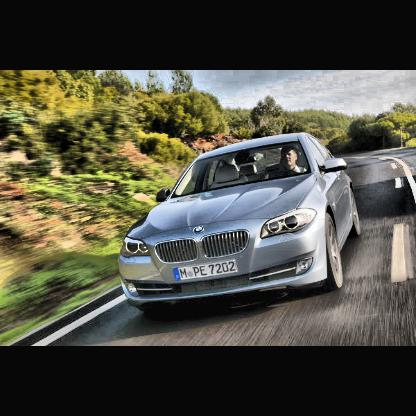BMW ActiveHybrid 5 Sedan 2012: (114, 133, 366, 309)
